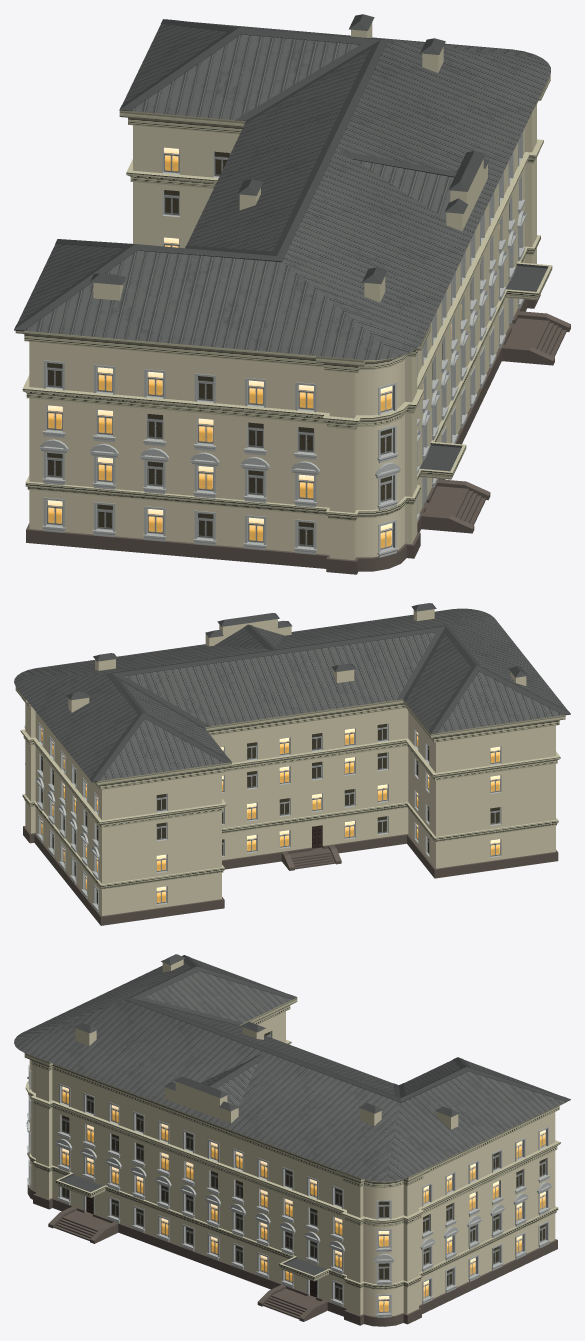
The picture shows the model from 3 angles, top to bottom: view 1: azimuth 30°, elevation 25°; view 2: azimuth 150°, elevation 25°; view 3: azimuth 270°, elevation 25°; orthographic projection. The views are drawn at different scales.
Visible parts, largest first — view 1: 01040-50@75490; view 2: 01040-50@75490; view 3: 01040-50@75490.
Part boxes in pixels (x1=…): 01040-50@75490: x1=14, y1=14, x2=570, y2=574; 01040-50@75490: x1=14, y1=603, x2=570, y2=925; 01040-50@75490: x1=14, y1=954, x2=570, y2=1326.
Bounding box in the file's own units: 54.33 × 20.98 × 56.43.
1 material, 1 textured.
